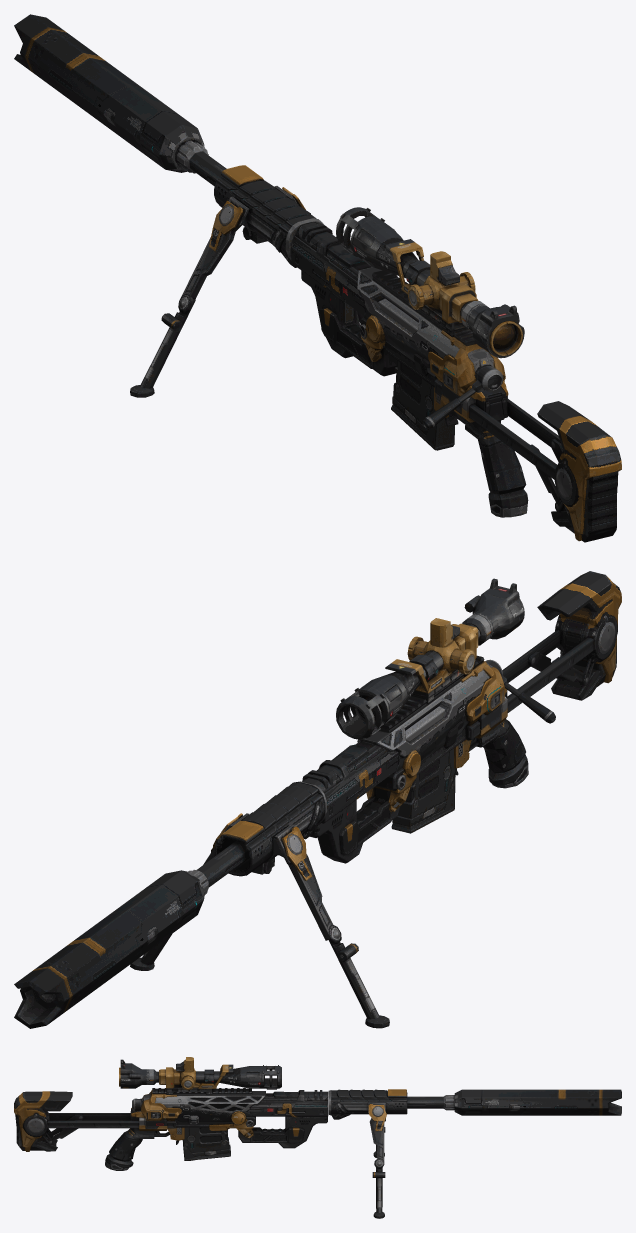
3 views of the same model, one above another, from view 1: azimuth 30°, elevation 25°; view 2: azimuth 150°, elevation 25°; view 3: azimuth 270°, elevation 25° (orthographic). The views are drawn at different scales.
Visible parts, largest first — view 1: xx_weapon.002, xx_weapon, xx_weapon.003, xx_weapon.001; view 2: xx_weapon.002, xx_weapon.003, xx_weapon, xx_weapon.001; view 3: xx_weapon.002, xx_weapon, xx_weapon.003, xx_weapon.001.
Part boxes in pixels (<box>): xx_weapon.002: <box>14,14,436,449</box>; xx_weapon: <box>412,331,621,542</box>; xx_weapon.003: <box>291,207,437,415</box>; xx_weapon.001: <box>398,251,524,377</box>; xx_weapon.002: <box>14,760,455,1028</box>; xx_weapon.003: <box>302,659,467,846</box>; xx_weapon: <box>443,571,621,788</box>; xx_weapon.001: <box>407,578,524,717</box>; xx_weapon.002: <box>185,1089,621,1218</box>; xx_weapon: <box>14,1091,221,1170</box>; xx_weapon.003: <box>175,1064,328,1142</box>; xx_weapon.001: <box>119,1057,221,1117</box>.
Bounding box in the file's own units: 39.54 × 35.24 × 153.
Materials: 2 (2 with a texture image).
